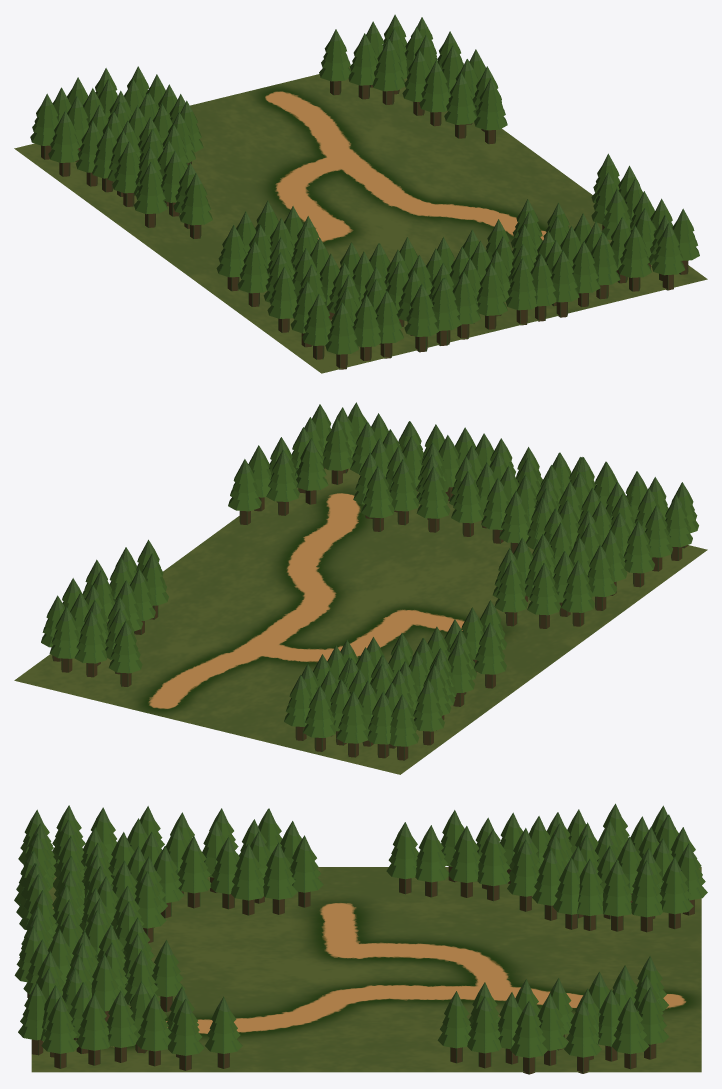
The model's file is map_with_trees.fbx.
The picture shows the model from 3 angles, top to bottom: view 1: azimuth 30°, elevation 25°; view 2: azimuth 150°, elevation 25°; view 3: azimuth 270°, elevation 25°; orthographic projection. The views are drawn at different scales.
Parts seen in each view (by area): view 1: MASH1_ReproMesh, pPlane2; view 2: MASH1_ReproMesh, pPlane2; view 3: MASH1_ReproMesh, pPlane2.
Part boxes in pixels (x1,y1,x2,y2): MASH1_ReproMesh: (30, 14, 699, 369); pPlane2: (14, 67, 707, 373); MASH1_ReproMesh: (41, 402, 698, 760); pPlane2: (14, 468, 707, 774); MASH1_ReproMesh: (14, 803, 707, 1074); pPlane2: (31, 867, 701, 1072).
Size of the model in its own units: 11725 by 1832 by 16127.
